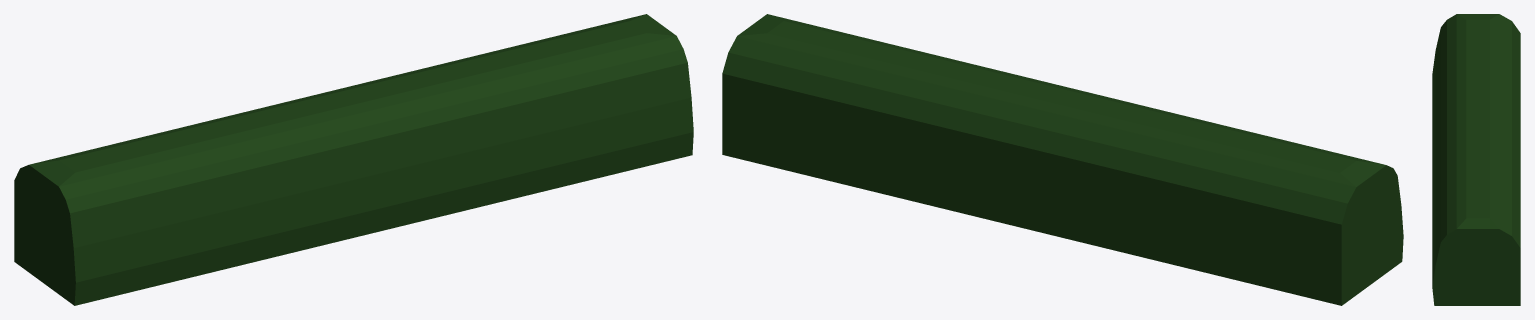
Rendered from arbusto_borde.fbx.
3 renders of one model, left to right at view 1: azimuth 30°, elevation 25°; view 2: azimuth 150°, elevation 25°; view 3: azimuth 270°, elevation 25°, orthographic. The views are drawn at different scales.
Visible parts, largest first — view 1: Cubo; view 2: Cubo; view 3: Cubo.
Part boxes in pixels (x1,y1,x2,y2): Cubo: [14, 14, 693, 305]; Cubo: [722, 14, 1403, 305]; Cubo: [1432, 14, 1520, 305].
Size of the model in its own units: 600 by 103 by 104.
